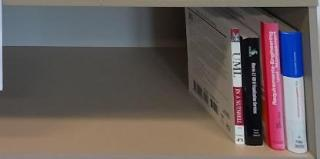book-spine: (281, 32, 307, 156), (261, 22, 285, 152), (241, 38, 262, 148), (231, 29, 244, 146)
